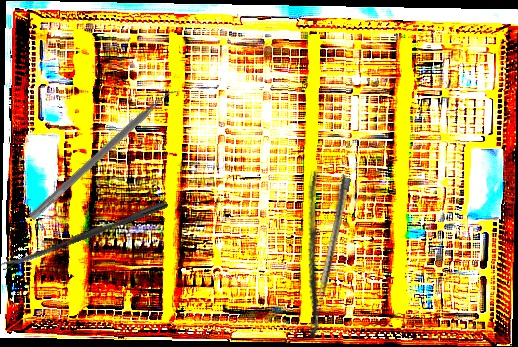Dressing Forceps: (279, 168, 351, 341)
Scalpel Handle: (316, 177, 352, 298)
Spatula Surgical: (28, 81, 183, 228)
Surgical Spoon: (0, 199, 169, 271)
